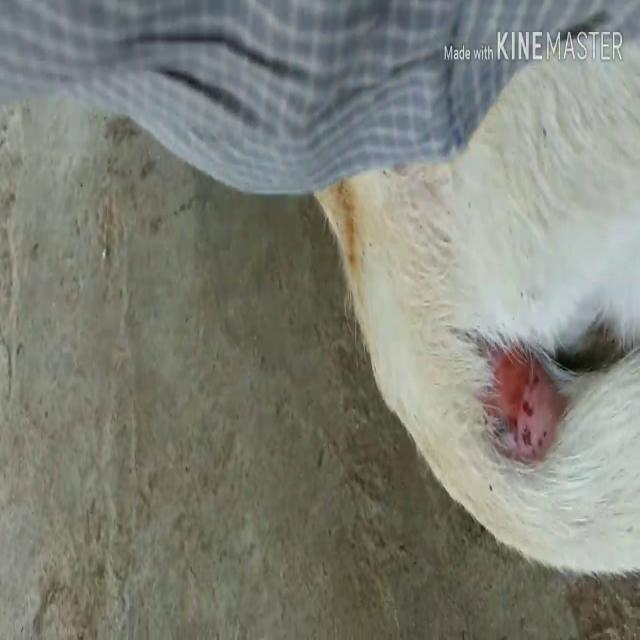hac lao: (458, 302, 586, 494)
